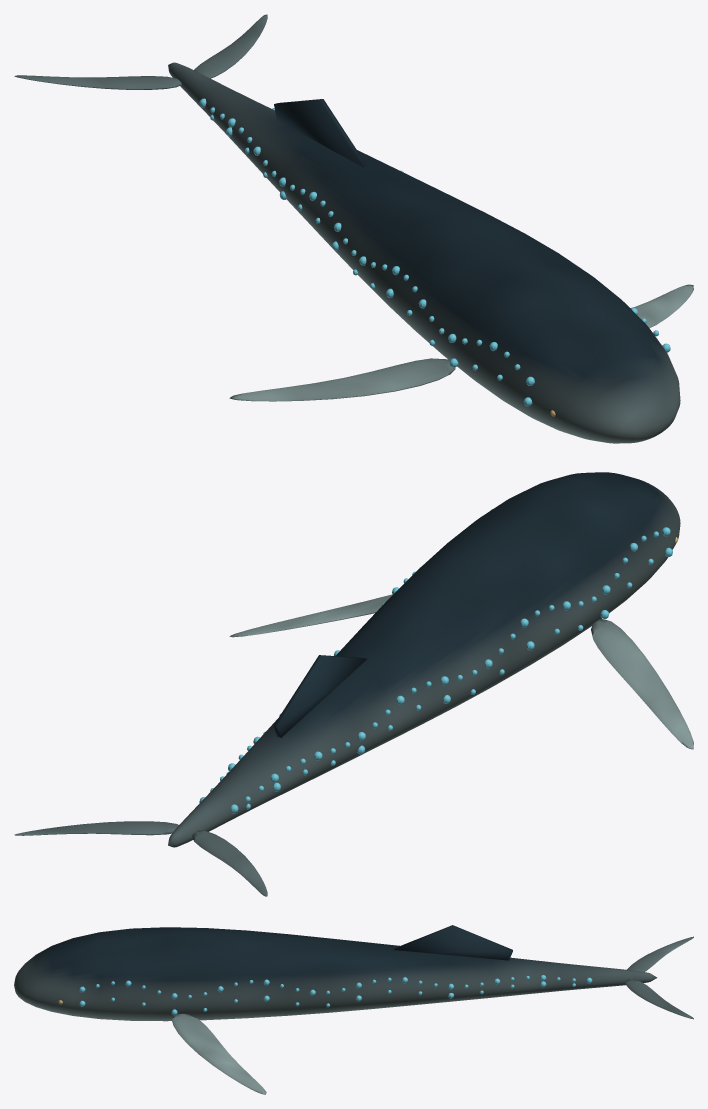
The model's file is leviathan.glb.
3 renders of one model, top to bottom at view 1: azimuth 30°, elevation 25°; view 2: azimuth 150°, elevation 25°; view 3: azimuth 270°, elevation 25°, orthographic. The views are drawn at different scales.
Visible parts, largest first — view 1: leviathan; view 2: leviathan; view 3: leviathan.
Part boxes in pixels (x1,y1,x2,y2): leviathan: (14, 14, 693, 443); leviathan: (14, 472, 693, 896); leviathan: (14, 925, 693, 1094).
Bounding box in the file's own units: 26.12 × 7.52 × 49.58.
